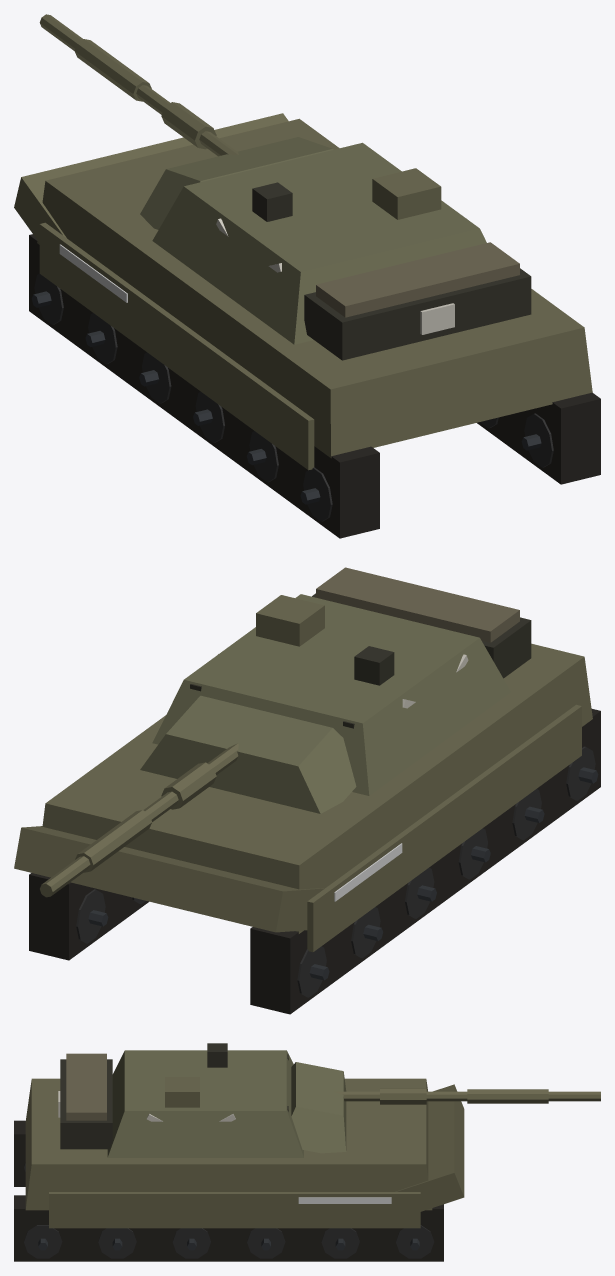
Rendered from mbt_modern.glb.
3 renders of one model, top to bottom at view 1: azimuth 30°, elevation 25°; view 2: azimuth 150°, elevation 25°; view 3: azimuth 270°, elevation 25°, orthographic. The views are drawn at different scales.
Visible parts, largest first — view 1: mbt_modern; view 2: mbt_modern; view 3: mbt_modern.
Boxes of the visible parts, bbox=[...] form: mbt_modern: bbox=[14, 14, 600, 538]; mbt_modern: bbox=[14, 567, 600, 1014]; mbt_modern: bbox=[14, 1043, 600, 1261].
Bounding box in the file's own units: 4 × 2.9 × 10.1.
